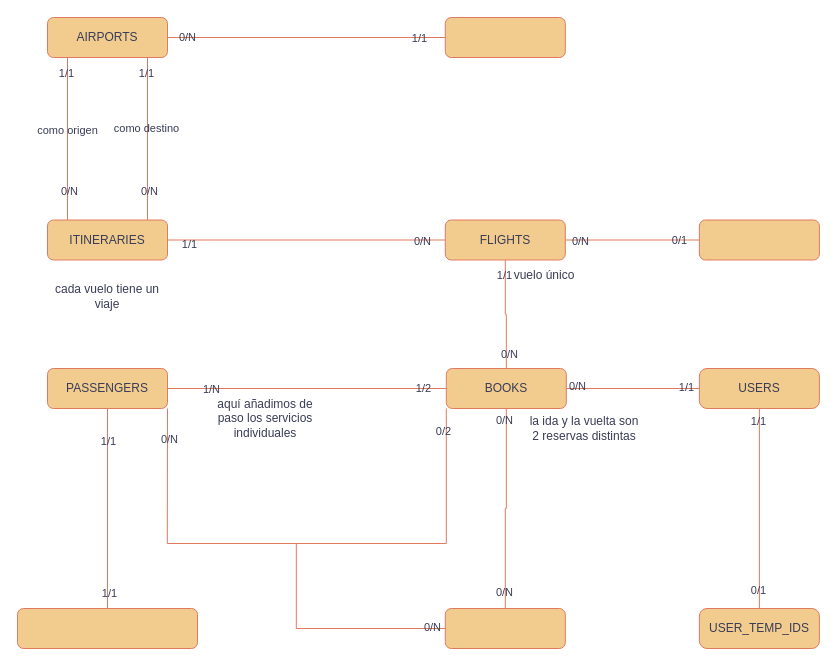
Image size: 837x666. Some labels were removed from this diagram. The shapes that lost their labels are listed below. From the top down, each one's centre as x and y in pixels, then its label:
At point (504, 37): "CURRENCIES".
At point (758, 239): "AIRPLANES".
At point (107, 628): "ADDITIONAL_INFORMATIONS".
At point (504, 628): "SERVICES".
